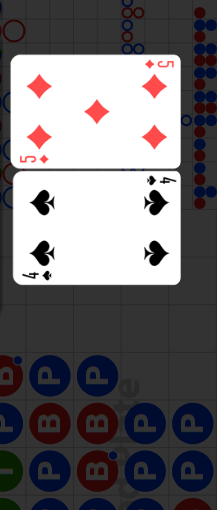4S: (21, 269, 54, 282)
5D: (143, 58, 175, 70)
